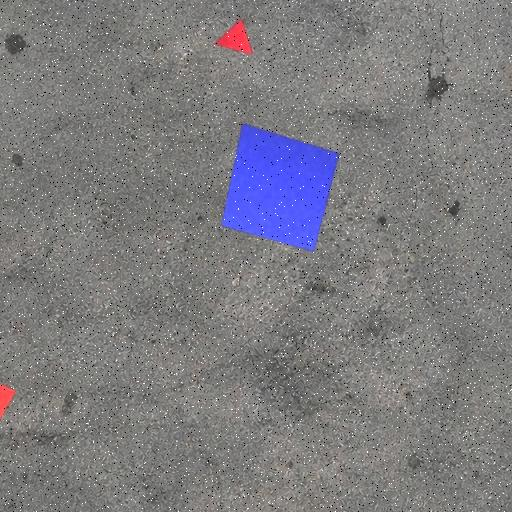BLUE_SQUARE: (221, 122, 340, 252)
